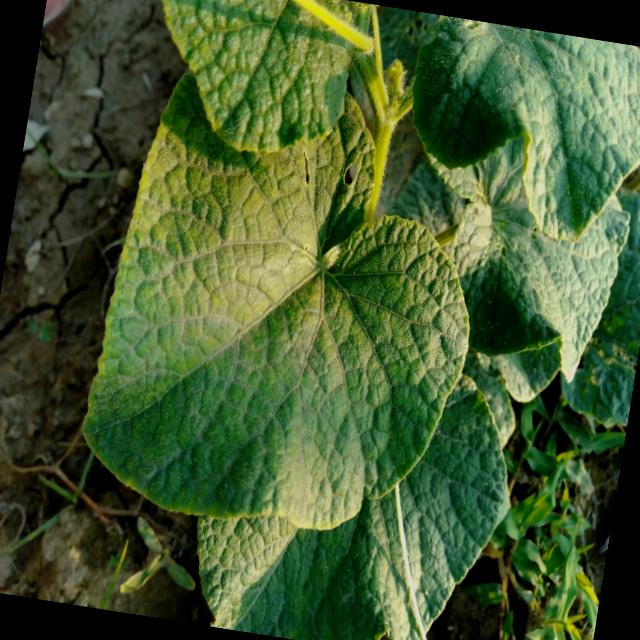cucumber_healthy: (60, 51, 511, 564), (177, 339, 535, 640), (364, 141, 640, 429), (384, 11, 640, 259), (129, 0, 370, 174)
